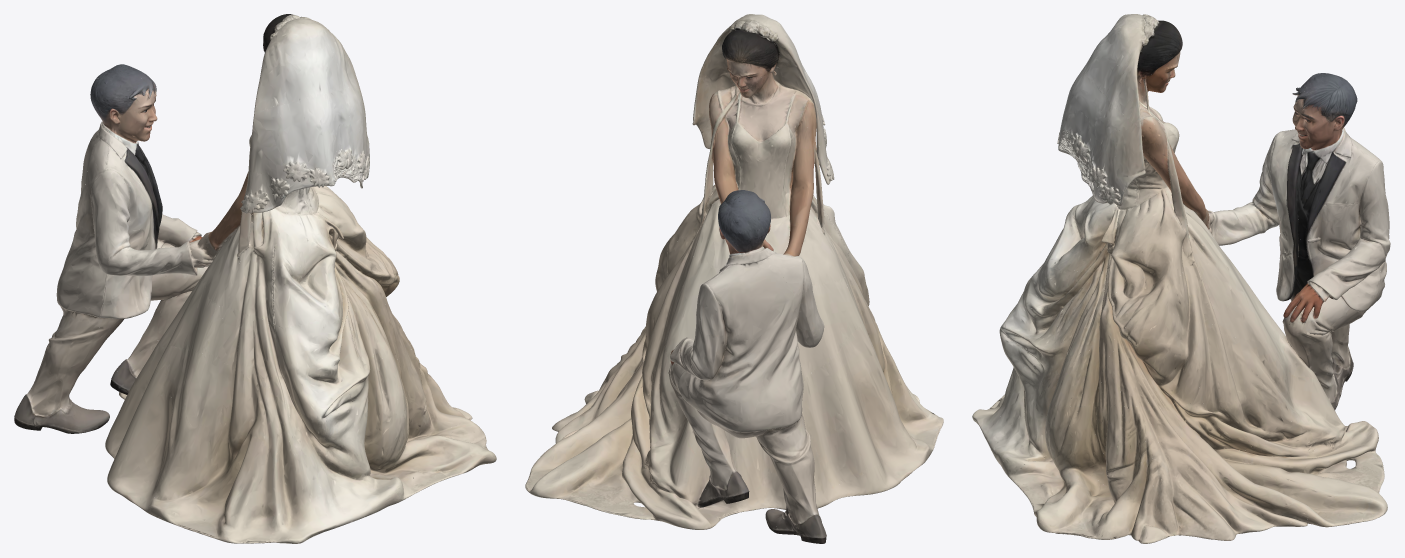
The model's file is couple_web.glb.
3 renders of one model, left to right at view 1: azimuth 30°, elevation 25°; view 2: azimuth 150°, elevation 25°; view 3: azimuth 270°, elevation 25°, orthographic. The views are drawn at different scales.
Parts seen in each view (by area): view 1: tripo_node_adbf6ec4-e67e-4ad8-8758-e561f4a454c8; view 2: tripo_node_adbf6ec4-e67e-4ad8-8758-e561f4a454c8; view 3: tripo_node_adbf6ec4-e67e-4ad8-8758-e561f4a454c8.
Boxes of the visible parts, <box> form: tripo_node_adbf6ec4-e67e-4ad8-8758-e561f4a454c8: <box>14,14,496,543</box>; tripo_node_adbf6ec4-e67e-4ad8-8758-e561f4a454c8: <box>525,14,943,543</box>; tripo_node_adbf6ec4-e67e-4ad8-8758-e561f4a454c8: <box>972,14,1390,543</box>.
Bounding box in the file's own units: 0.8194 × 0.983 × 0.8407.
Materials: 1 (1 with a texture image).
